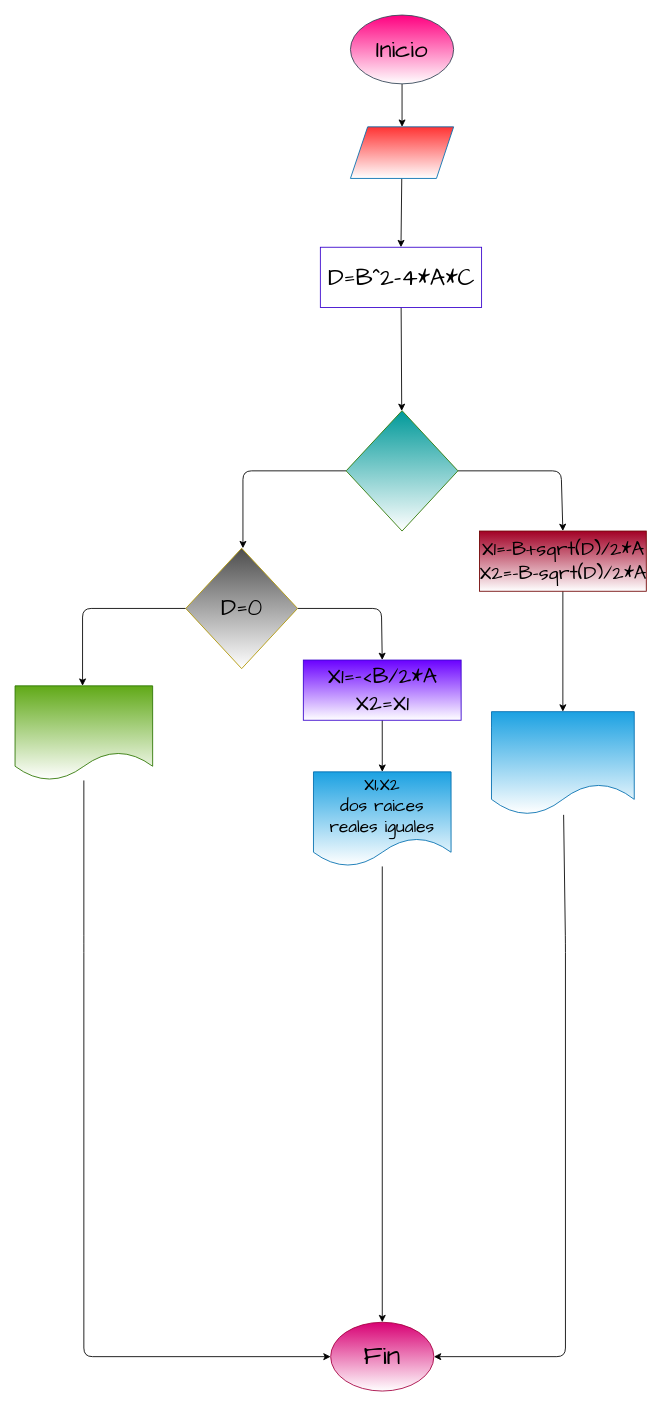
This 661x1406 diagram has some shape labels left out. Each missing label, with the centre of its shape:
"A,B,C" goes at point 402,152.
"D>0" goes at point 401,470.
"Raices imaginarias o complejas" goes at point 83,732.
"X1,X2 dos raices reales diferentes" goes at point 562,763.
